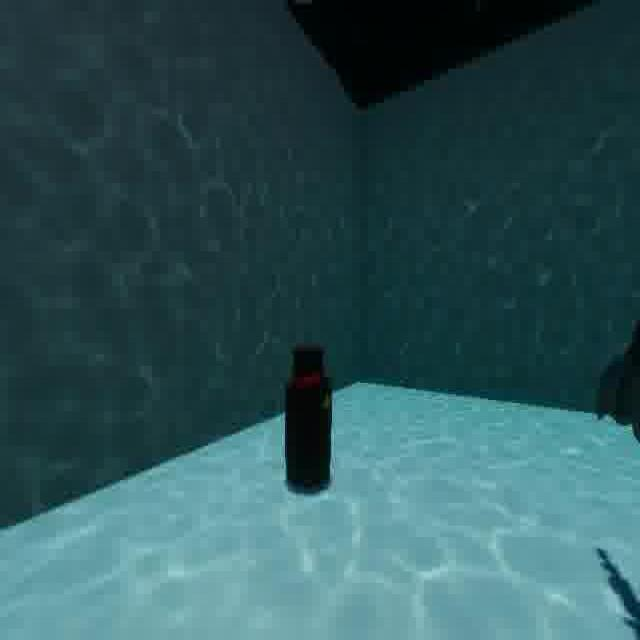Cylinder: (284, 336, 334, 498)
